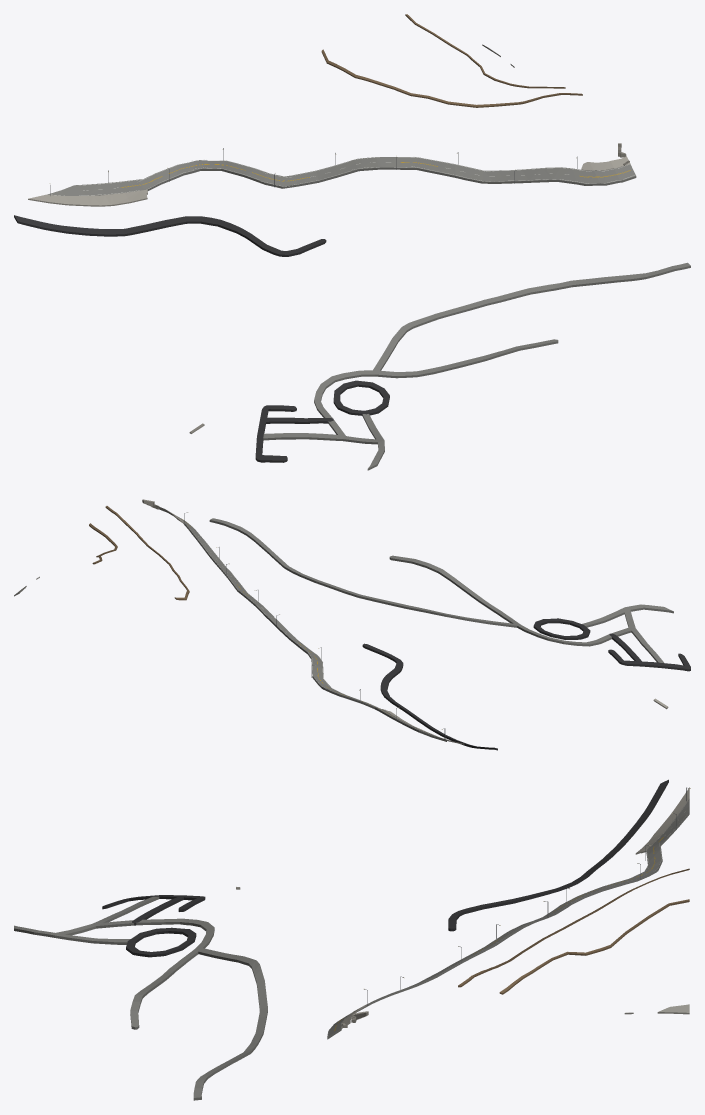
3 views of the same model, one above another, from view 1: azimuth 30°, elevation 25°; view 2: azimuth 150°, elevation 25°; view 3: azimuth 270°, elevation 25° (orthographic). The views are drawn at different scales.
Bounding box in the file's own units: 294 × 108 × 292.
